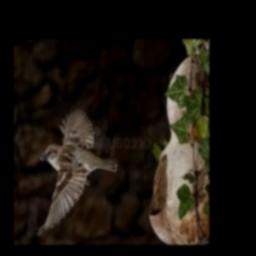Sparrow: (36, 108, 118, 237)
